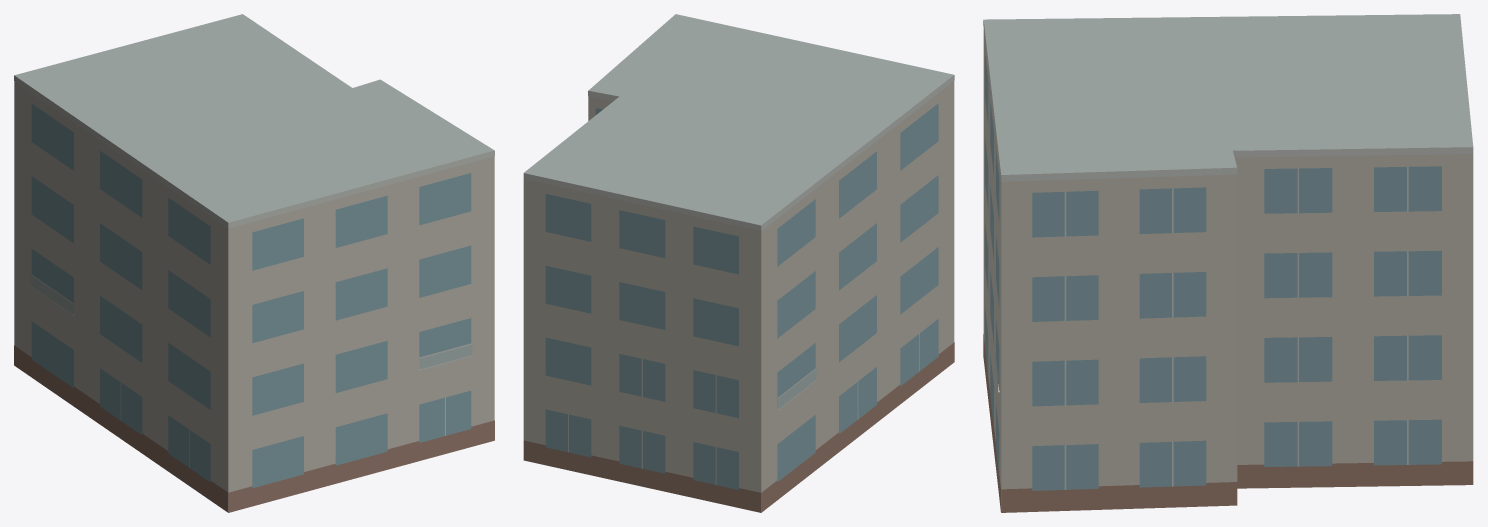
The model's file is survey-upis-32525844.glb.
3 views of the same model, side by side, from view 1: azimuth 30°, elevation 25°; view 2: azimuth 150°, elevation 25°; view 3: azimuth 270°, elevation 25° (orthographic). The views are drawn at different scales.
Visible parts, largest first — view 1: survey-upis-32525844.tmp; view 2: survey-upis-32525844.tmp; view 3: survey-upis-32525844.tmp.
Part boxes in pixels (x1,y1,x2,y2): survey-upis-32525844.tmp: (14,14,494,512); survey-upis-32525844.tmp: (523,14,954,512); survey-upis-32525844.tmp: (983,14,1473,512).
Bounding box in the file's own units: 12.48 × 12.2 × 16.04.
